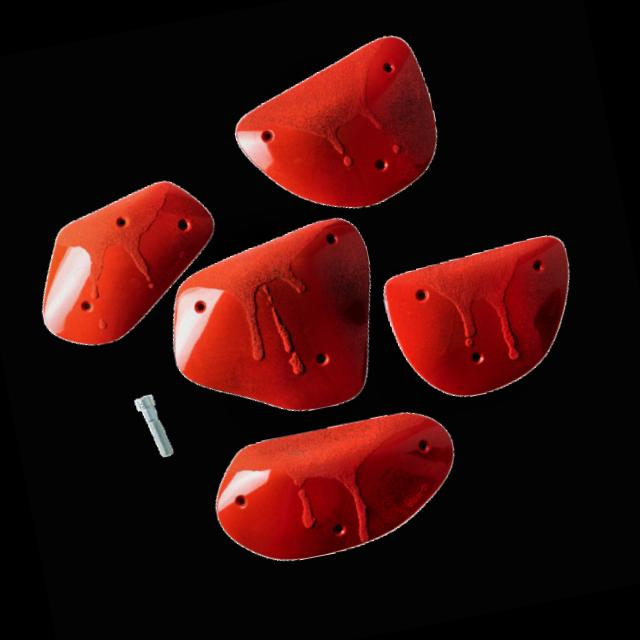Hold: (147, 208, 402, 433), (192, 402, 494, 579), (218, 29, 457, 230), (12, 171, 230, 363), (385, 221, 592, 411)
